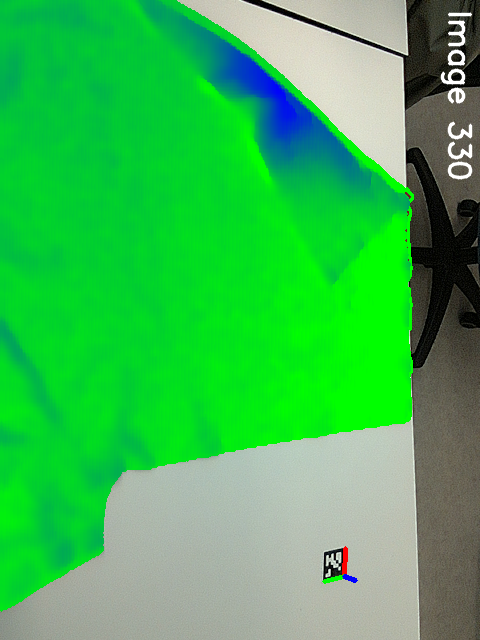V: (306, 239, 362, 291)
